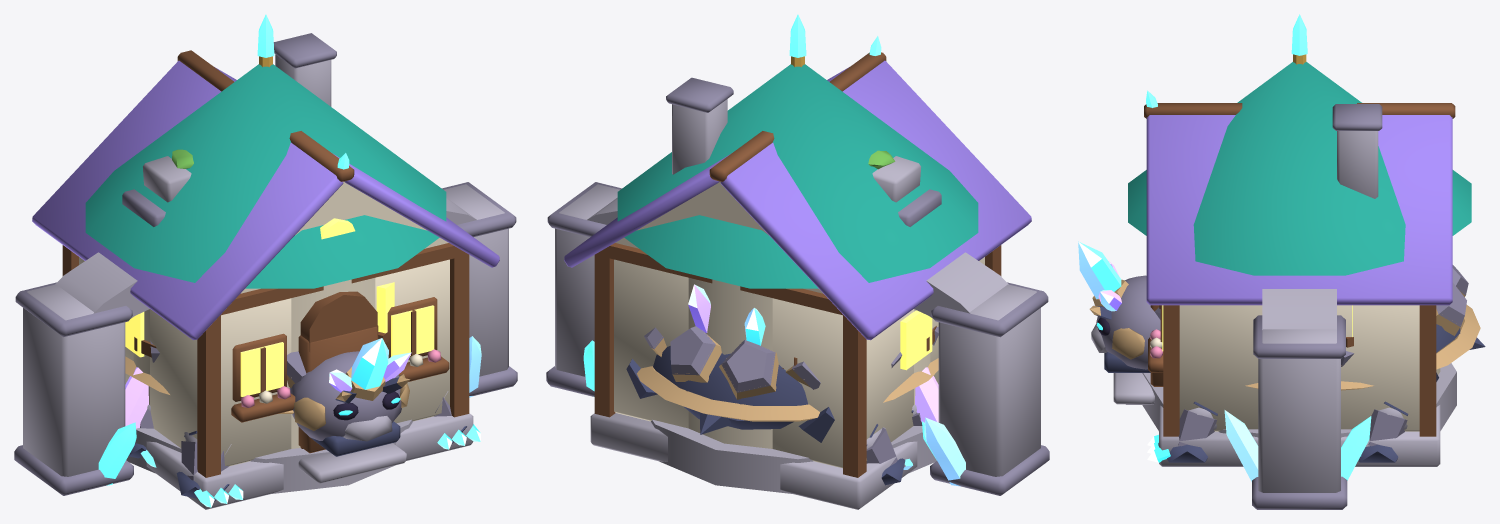
File: synes_kit.glb
3 renders of one model, left to right at view 1: azimuth 30°, elevation 25°; view 2: azimuth 150°, elevation 25°; view 3: azimuth 270°, elevation 25°, orthographic. The views are drawn at different scales.
Visible parts, largest first — view 1: house_a, house_b, crystal_gate, prismback_body, prismback_legs, ruin_arch, prismback_horn, prismback_shell; view 2: house_a, house_b, crystal_gate, prismback_shell, ruin_arch, prismback_legs, prismback_body; view 3: house_a, house_b, crystal_gate, prismback_body, prismback_legs, prismback_shell, prismback_horn.
Part boxes in pixels (x1,y1,x2,y2): house_a: (32, 33, 499, 509); house_b: (85, 14, 446, 493); crystal_gate: (14, 182, 517, 495); prismback_body: (290, 351, 410, 456); prismback_legs: (128, 391, 480, 507); ruin_arch: (122, 149, 193, 226); prismback_horn: (329, 338, 411, 392); prismback_shell: (125, 341, 306, 413); house_a: (564, 36, 1031, 509); house_b: (617, 14, 978, 493); crystal_gate: (546, 182, 1049, 495); prismback_shell: (637, 284, 938, 421); ruin_arch: (868, 150, 941, 226); prismback_legs: (626, 359, 922, 485); prismback_body: (683, 406, 793, 434); house_a: (1126, 90, 1455, 466); house_b: (1113, 14, 1471, 437); crystal_gate: (1224, 289, 1371, 509); prismback_body: (1089, 275, 1485, 372); prismback_legs: (1147, 372, 1438, 462); prismback_shell: (1154, 265, 1480, 390); prismback_horn: (1078, 241, 1121, 311).
Size of the model in its own units: 6.1 by 5.22 by 4.93.
